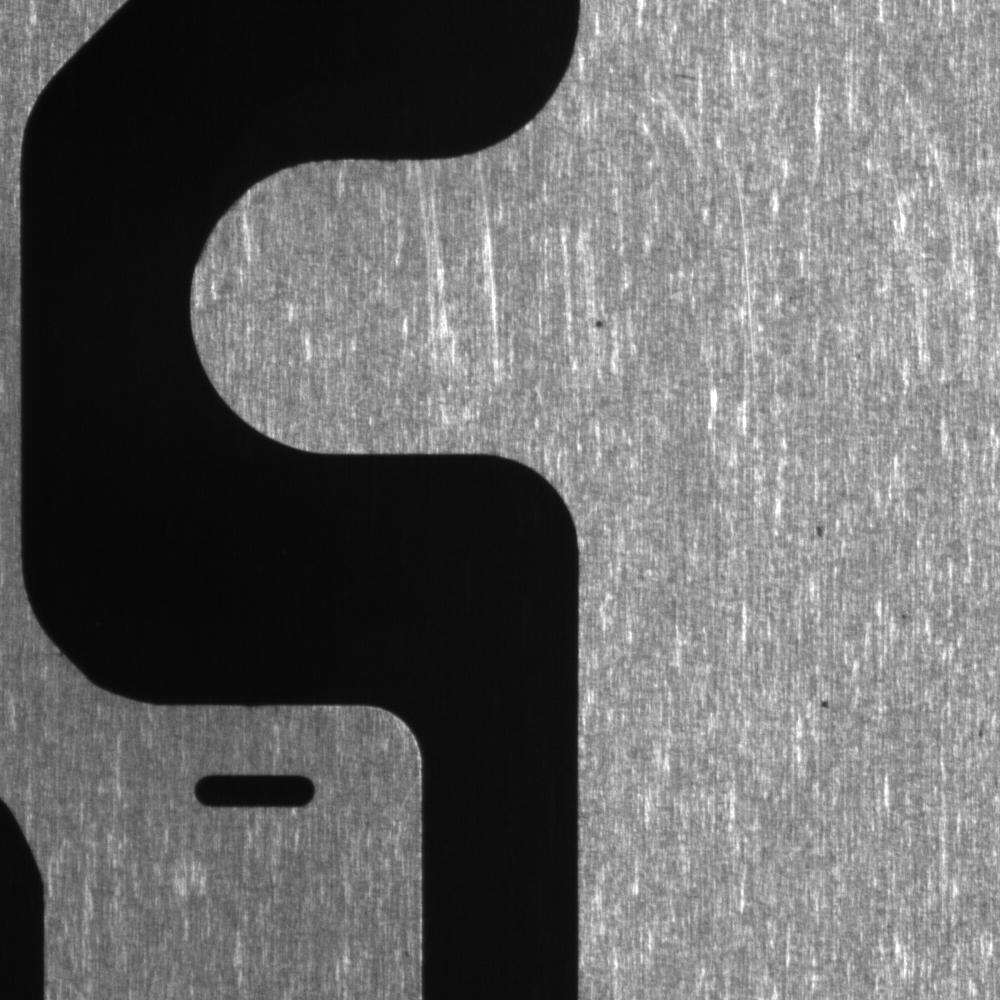Pinhole: (805, 516, 837, 549), (812, 689, 841, 714), (585, 311, 613, 336), (895, 606, 913, 626)
